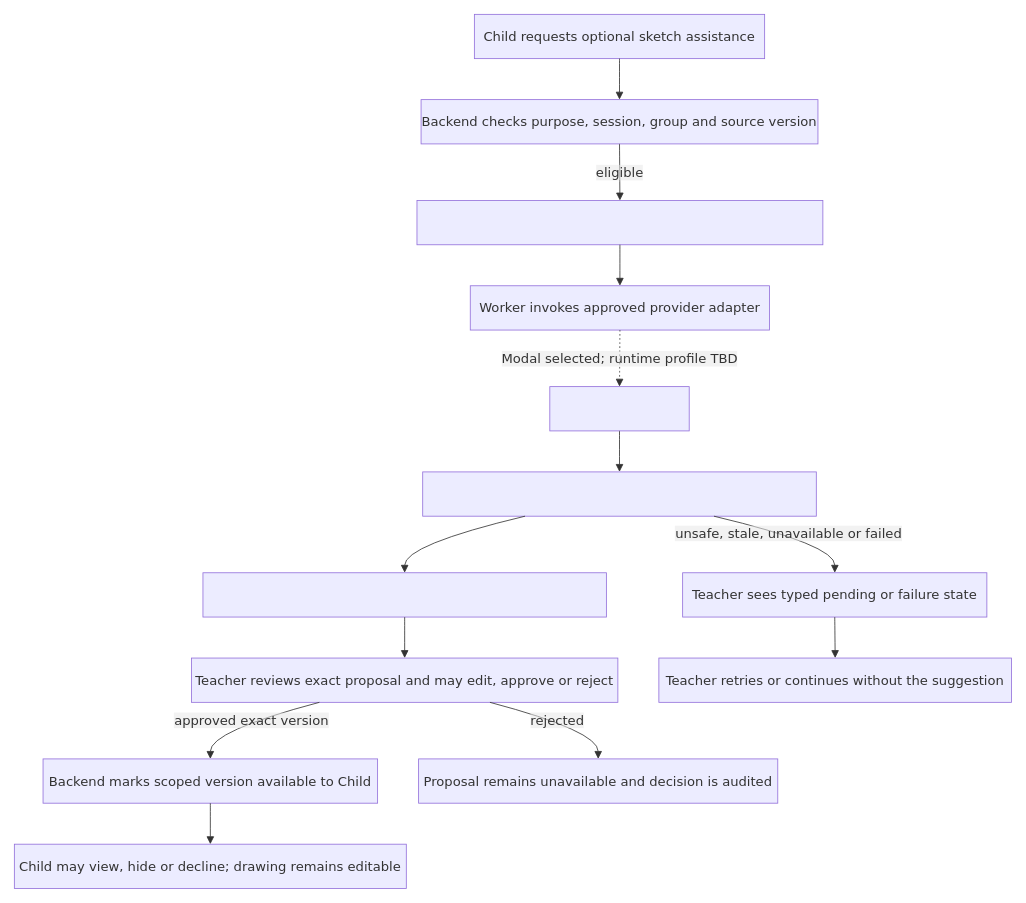
Some shapes in this 1026 by 903 pixel diagram are drawn without their labels. The box of each missing label's shape, as (x1, y1, x2, y2) in pixels:
Backend creates immutable source snapshot and queued job: (416, 200, 823, 245)
Backend stores separate versioned proposal and provenance: (202, 572, 606, 617)
Modal endpoint: (549, 386, 689, 431)
Worker validates typed result, safety and source freshness: (422, 471, 816, 516)
